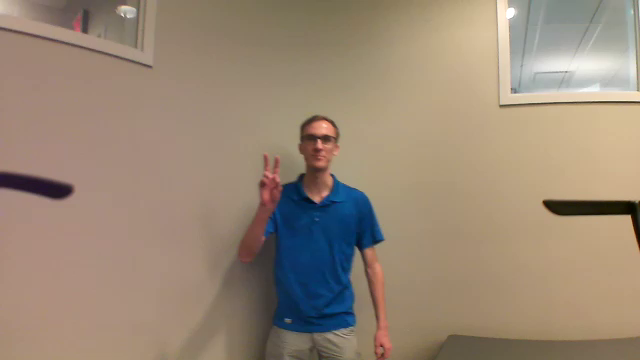peace: (254, 148, 291, 215)
